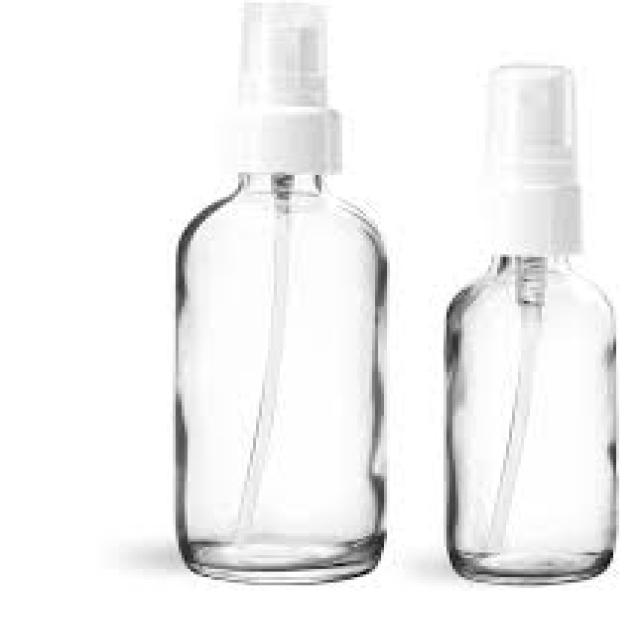glass: (173, 172, 384, 580), (444, 246, 613, 580)
plastic: (474, 63, 581, 249), (233, 0, 337, 167)
